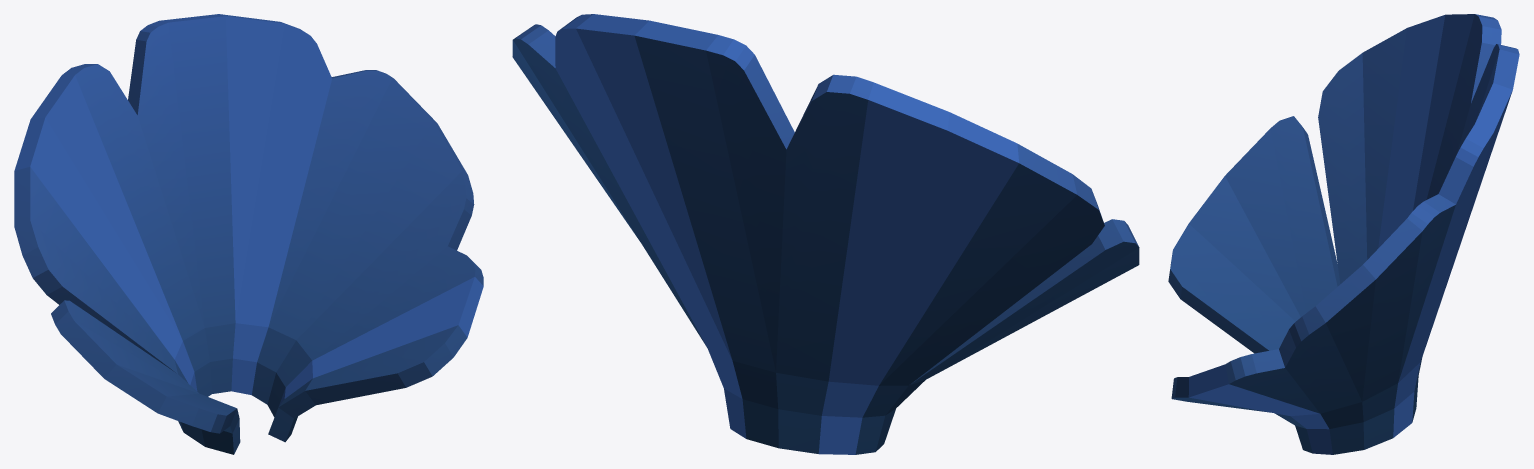
Rendered from coral_peafowl_blue_1.fbx.
3 renders of one model, left to right at view 1: azimuth 30°, elevation 25°; view 2: azimuth 150°, elevation 25°; view 3: azimuth 270°, elevation 25°, orthographic. The views are drawn at different scales.
Parts seen in each view (by area): view 1: coral_peafowl_blue_1; view 2: coral_peafowl_blue_1; view 3: coral_peafowl_blue_1.
Part boxes in pixels (x1,y1,x2,y2): coral_peafowl_blue_1: [14, 14, 483, 454]; coral_peafowl_blue_1: [512, 14, 1139, 454]; coral_peafowl_blue_1: [1168, 14, 1519, 454].
Size of the model in its own units: 0.6746 by 0.533 by 0.4381.
